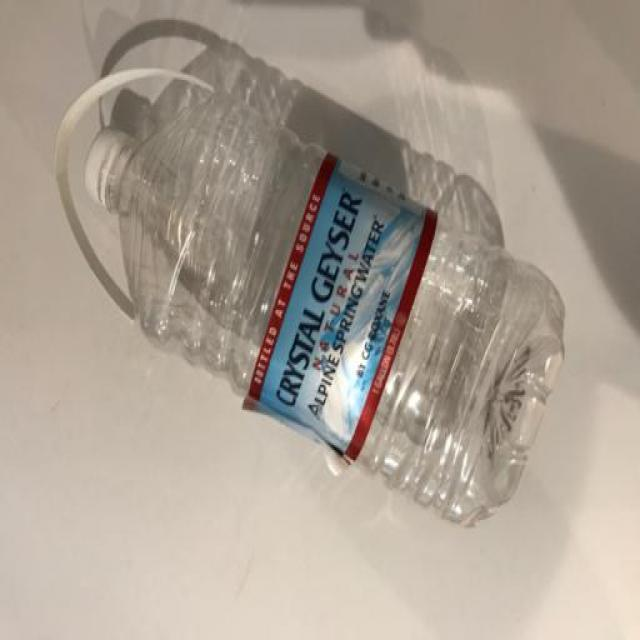Plastic: (56, 70, 564, 533)
